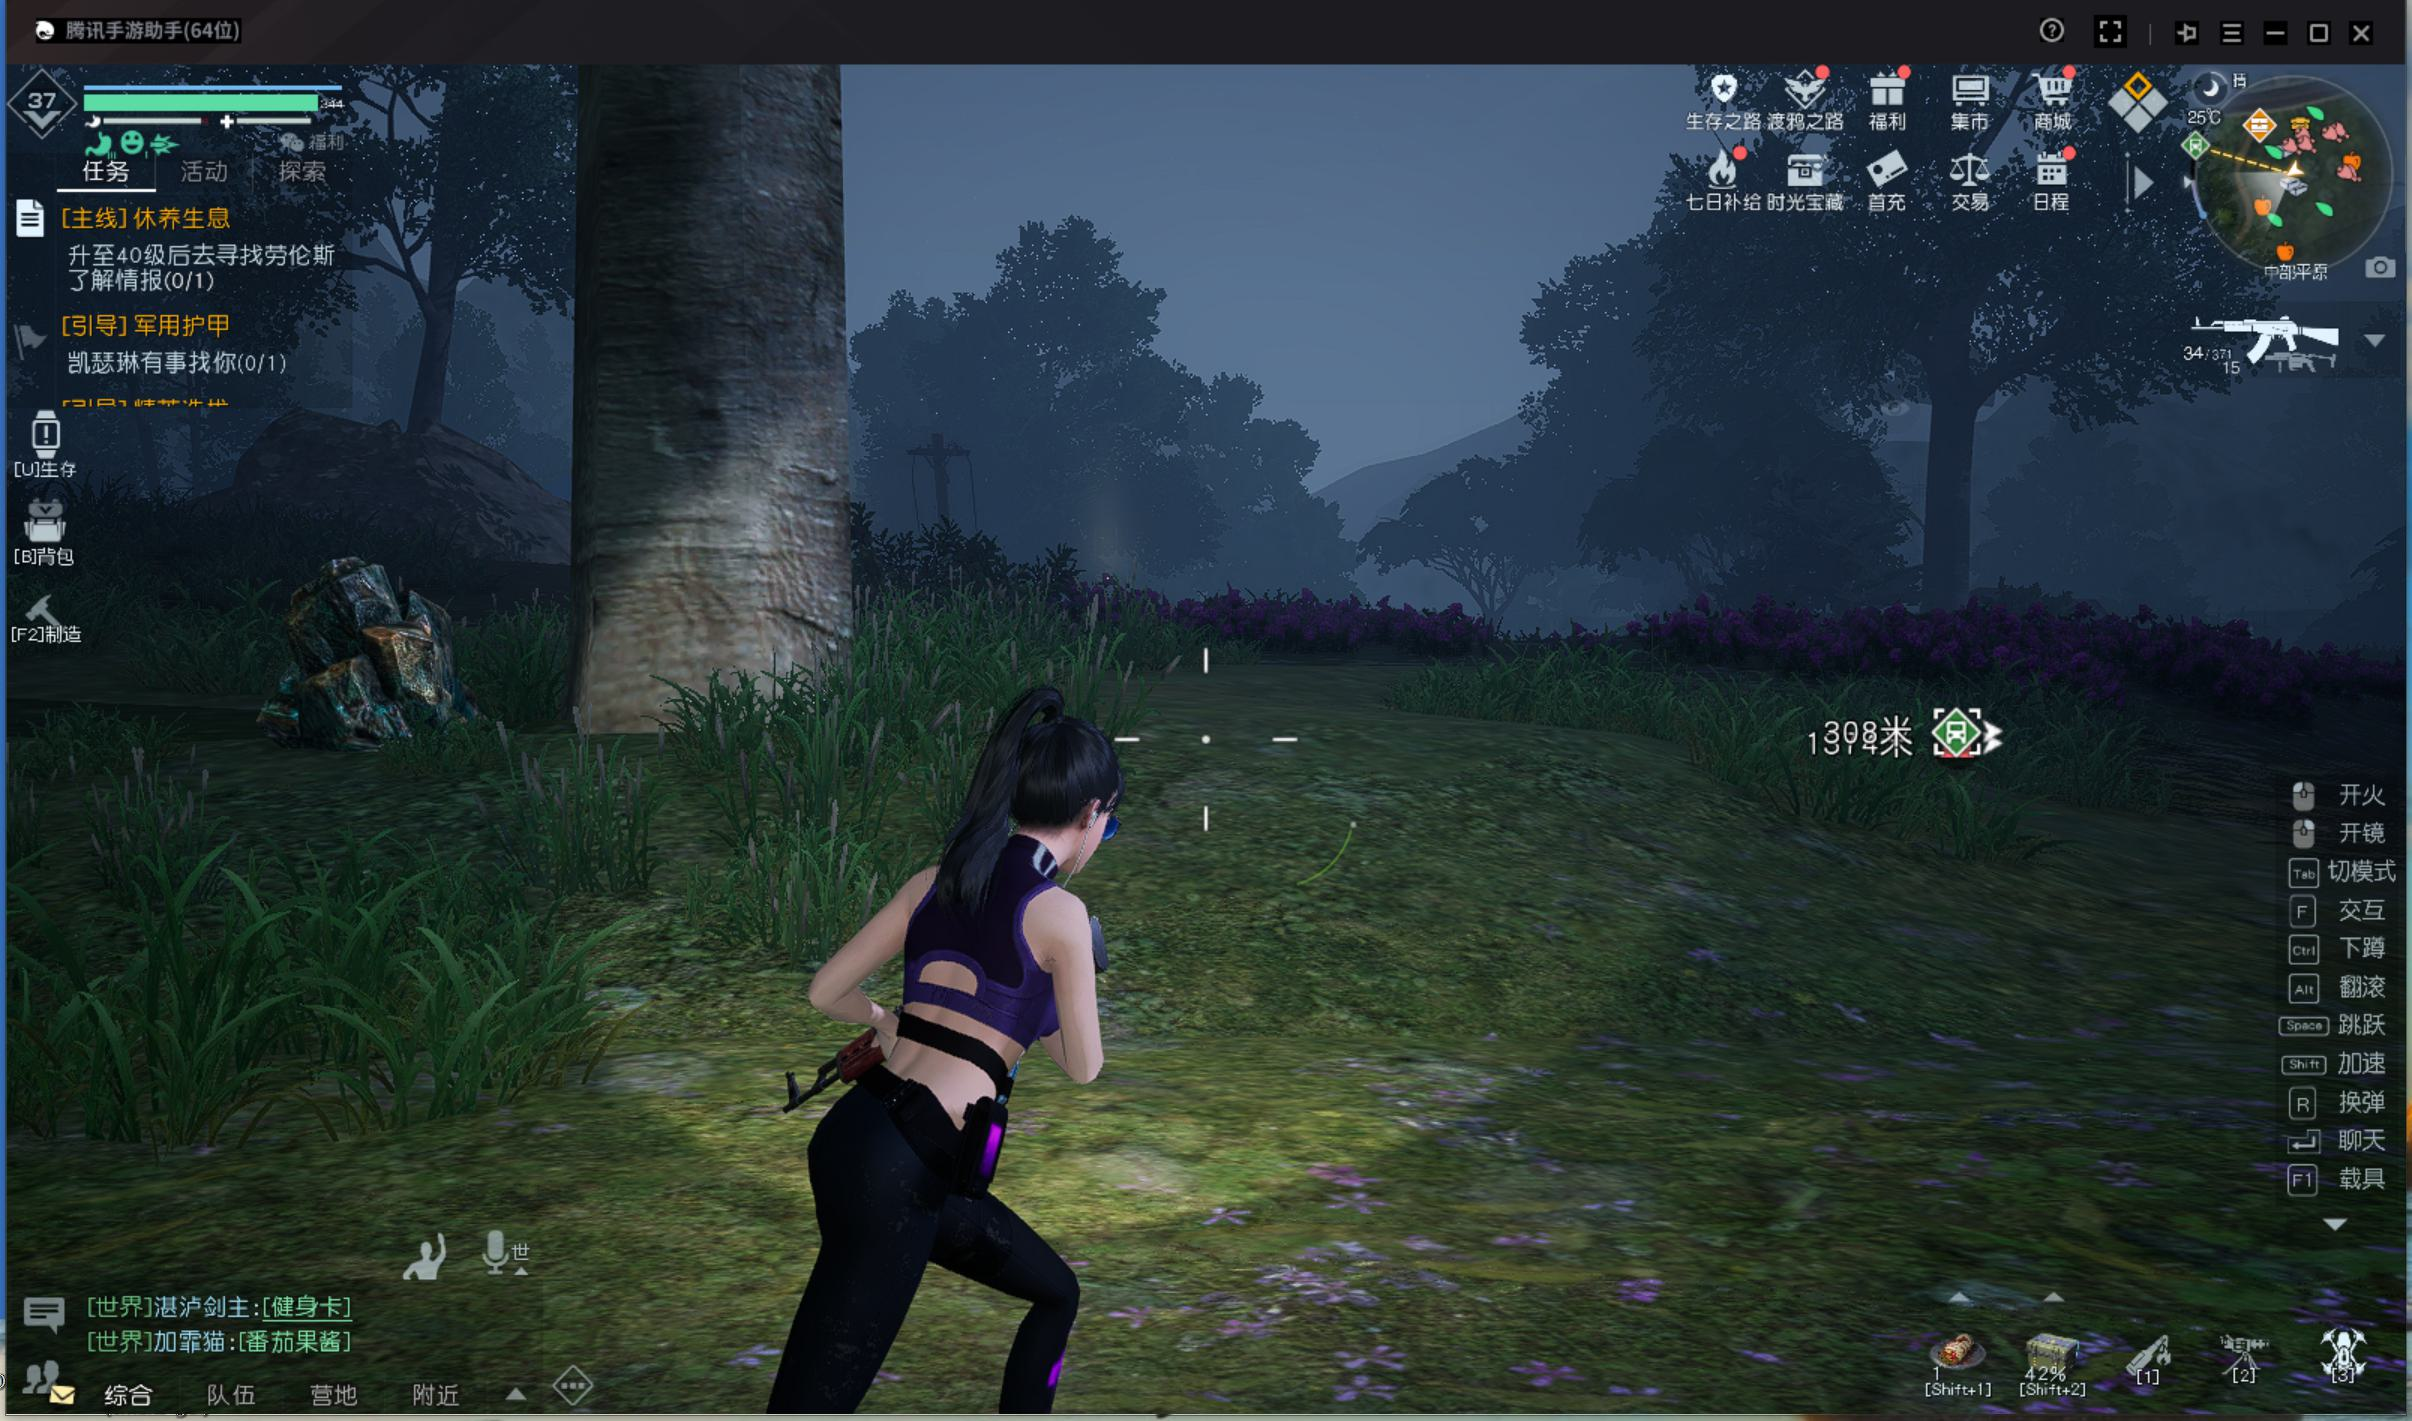stone: (220, 557, 499, 770)
tree: (551, 130, 891, 770), (1906, 408, 1993, 653)
